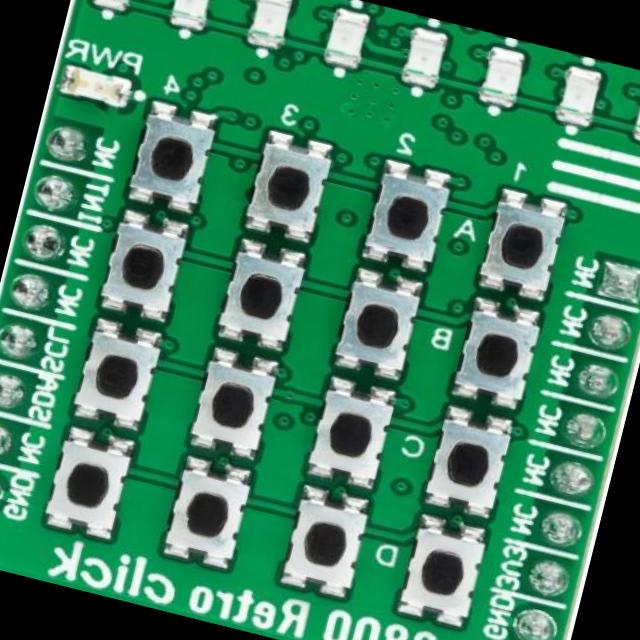LED: (314, 0, 378, 79), (393, 22, 456, 98), (470, 42, 529, 116), (54, 58, 130, 115), (550, 64, 604, 130), (241, 0, 293, 53), (162, 0, 213, 33), (86, 0, 141, 17), (628, 80, 640, 154)
